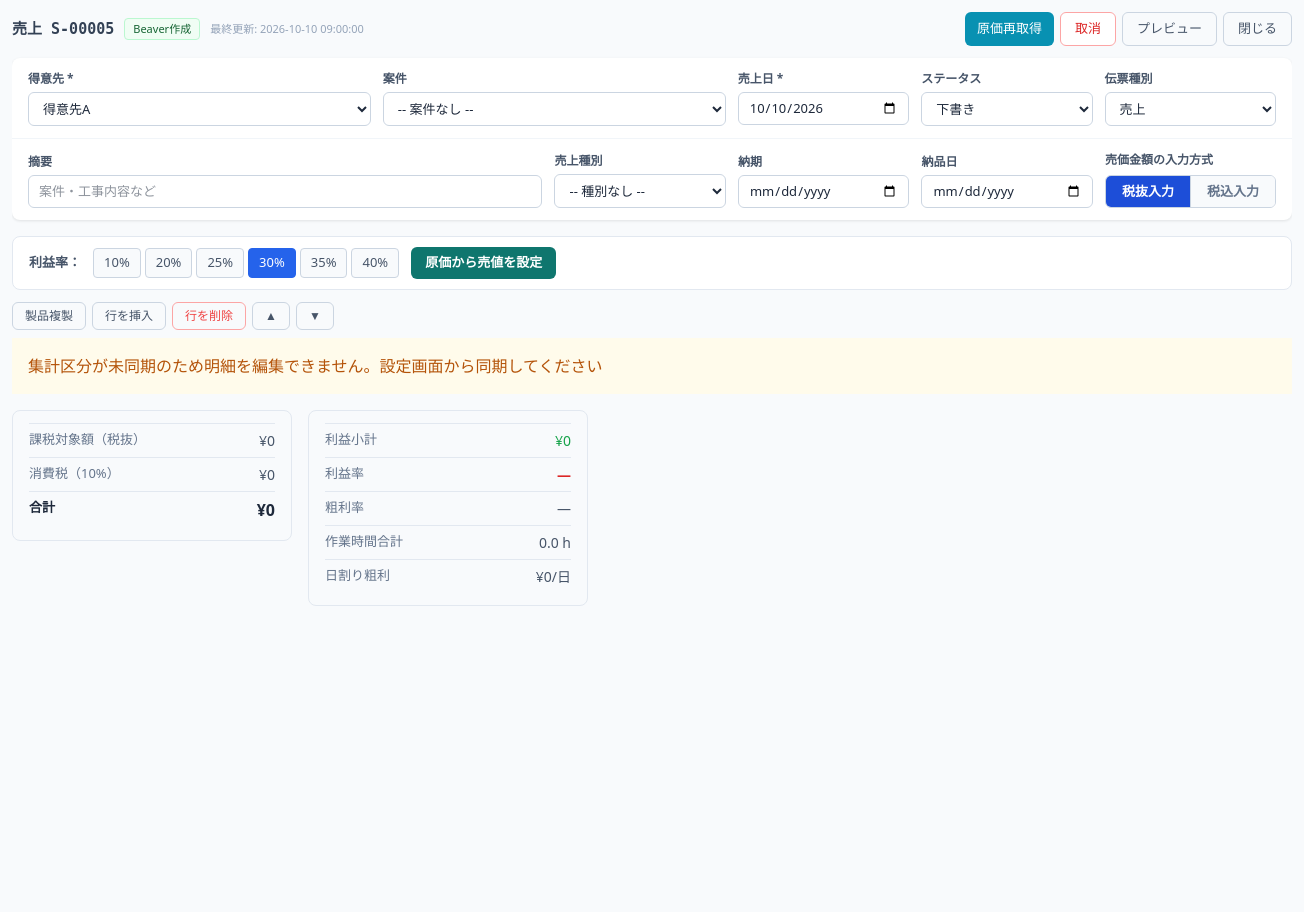
Test: R-0172: 伝票画面の保存状態を右下に固定表示する › 保存しました HH:MM を右下固定の枠に1回だけ出す
Check: the date field showing "2026-10-10" below "売上日 *" is shown, box 738,92 -> 909,125
Type "山田様邸" into the field named "description" at (285, 191), box 28,174 -> 542,208
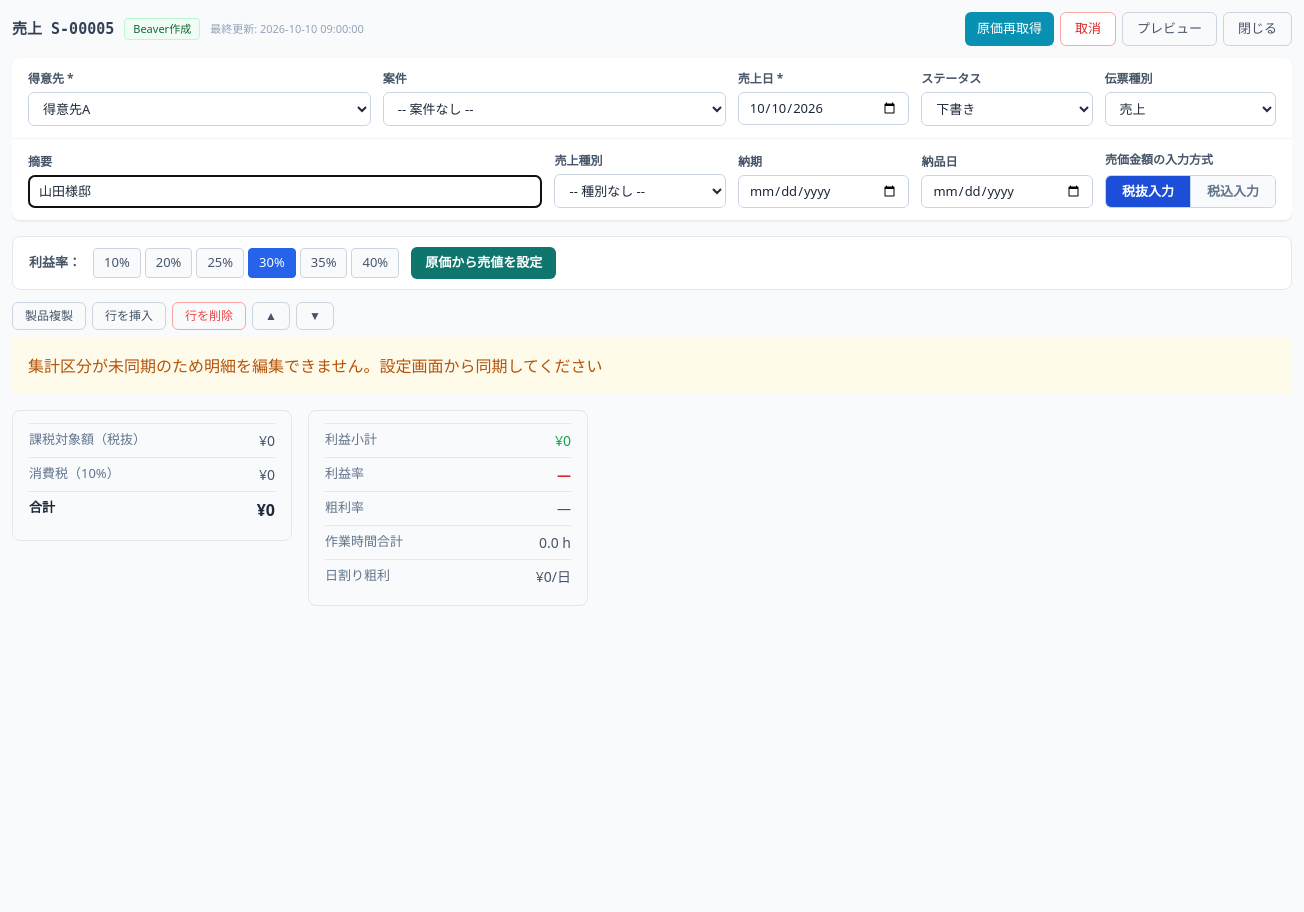
Press Tab
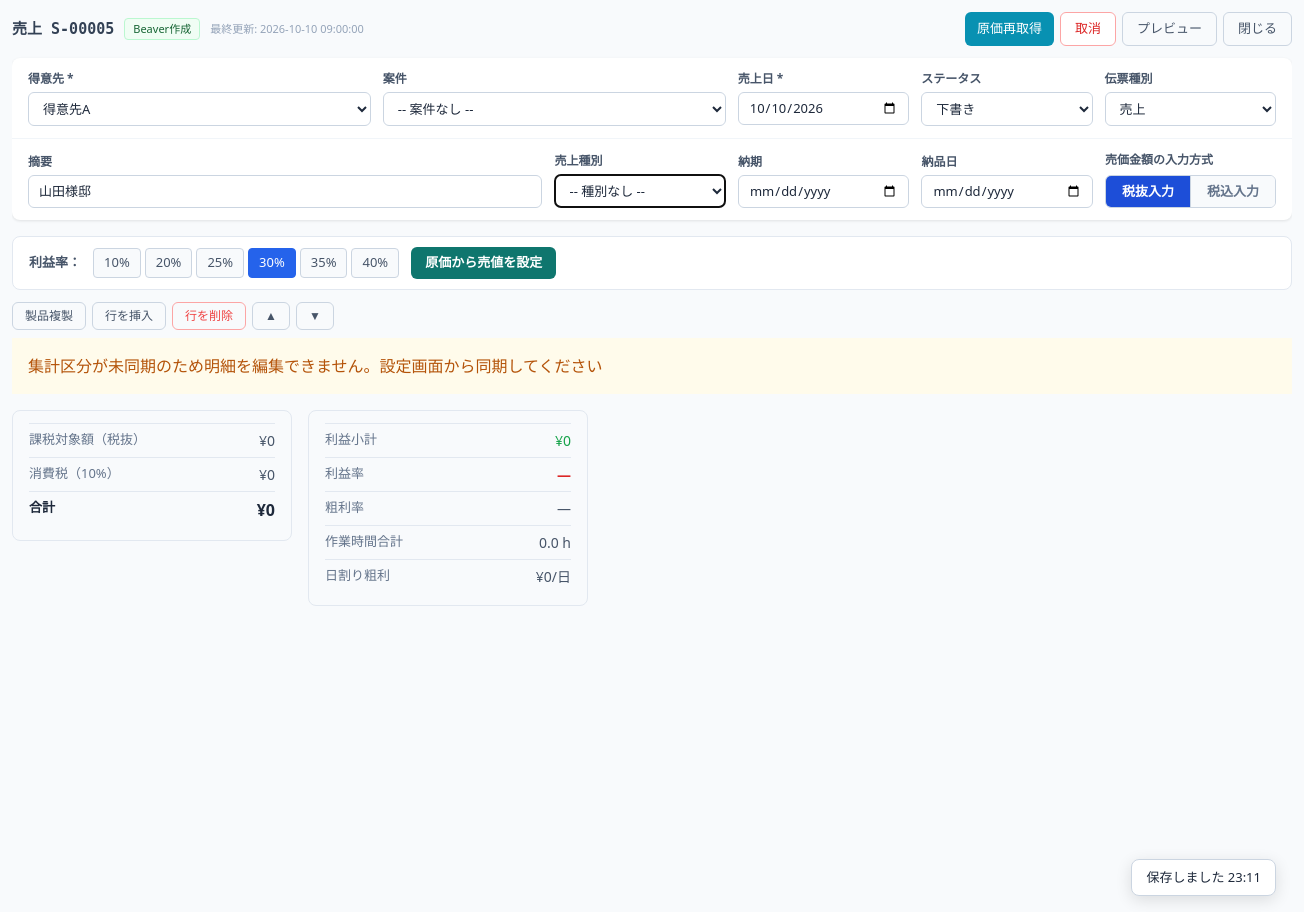
Check: the text "保存しました 23:11" is shown, box 1131,858 -> 1276,896
Check: the text "保存しました 23:11" is shown once, box 1146,868 -> 1261,887
